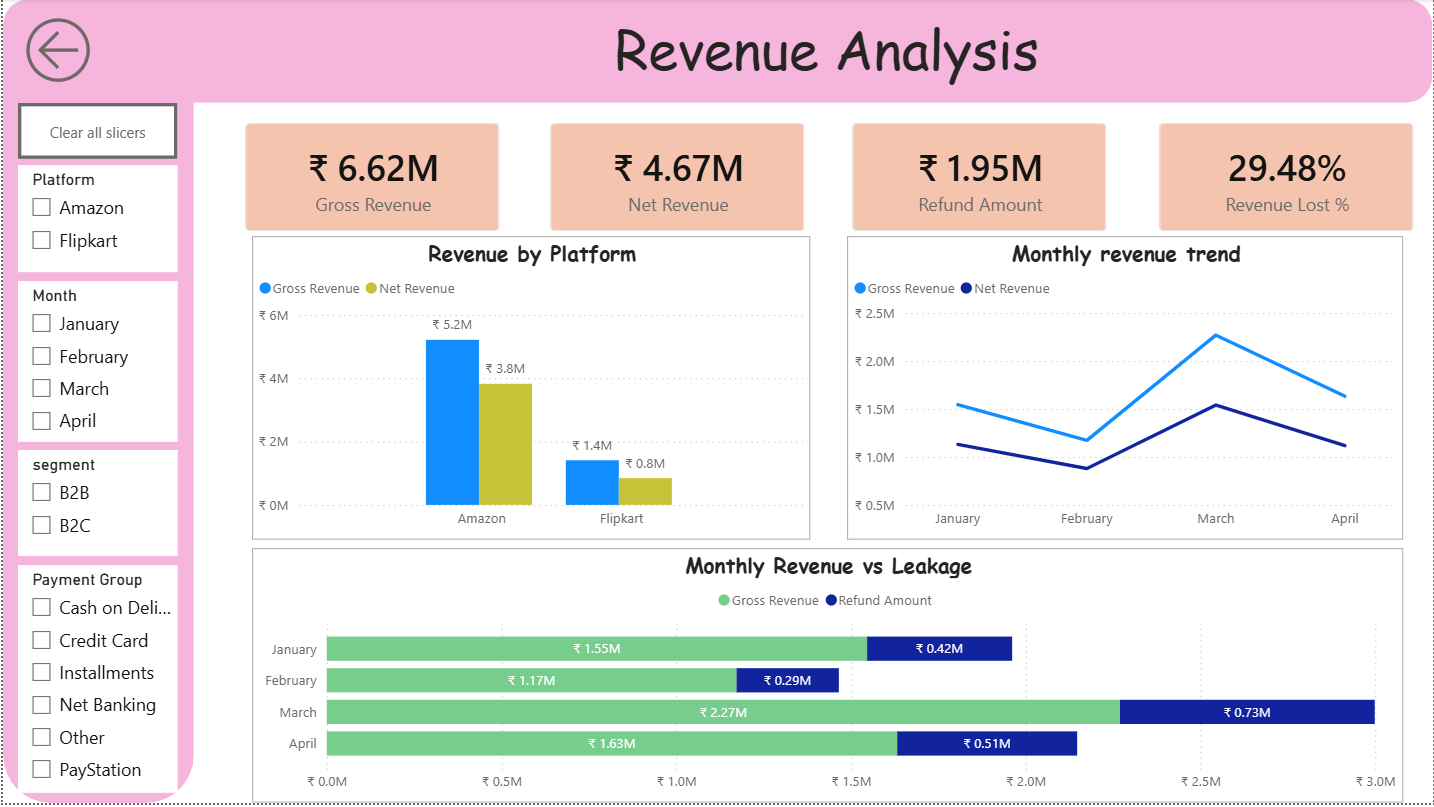

What the dashboard file says about the page in this screenshot:
{"tool":"powerbi","page":{"name":"Revenue Analysis","canvas":[1280,720],"ordinal":1},"visuals":[{"type":"cardVisual","fields":{"Data":["unified_sales.Gross Revenue"]},"box":[200,94,262,131],"z":0},{"type":"cardVisual","fields":{"Data":["unified_sales.Net Revenue"]},"box":[473,94,262,131],"z":1000},{"type":"cardVisual","fields":{"Data":["unified_sales.Revenue Lost %"]},"box":[1018,94,262,131],"z":2000},{"type":"cardVisual","fields":{"Data":["unified_sales.Refund Amount"]},"box":[743,94,262,131],"z":3000},{"type":"shape","box":[0,0,170.9,720],"z":4000},{"type":"shape","box":[0,0,1280,93],"z":5000},{"type":"slicer","fields":{"Values":["unified_sales.platform"]},"box":[13.6,149.1,142.7,96.4],"z":6000},{"type":"slicer","fields":{"Values":["unified_sales.month"]},"box":[13.6,252.7,142.7,143.6],"z":7000},{"type":"actionButton","box":[13.6,92.7,142.7,50],"z":8000},{"type":"textbox","box":[542.7,5.5,646.4,80.9],"z":9000},{"type":"clusteredColumnChart","title":"Revenue by Platform","fields":{"Y":["unified_sales.Gross Revenue","unified_sales.Net Revenue"],"Category":["unified_sales.platform"]},"box":[222.7,211.8,500,271.8],"z":10000},{"type":"slicer","fields":{"Values":["unified_sales.segment"]},"box":[13.6,403.6,142.7,95.5],"z":11000},{"type":"lineChart","title":"Monthly revenue trend","fields":{"Y":["unified_sales.Gross Revenue","unified_sales.Net Revenue"],"Category":["unified_sales.Month"]},"box":[755.5,211.8,498.2,271.8],"z":12000},{"type":"actionButton","box":[13.6,10,130.9,71.8],"z":13000},{"type":"slicer","fields":{"Values":["unified_sales.Payment Group"]},"box":[13.6,507.3,142.7,203.6],"z":14000},{"type":"barChart","title":"Monthly Revenue vs Leakage","fields":{"Category":["unified_sales.Month"],"Y":["unified_sales.Gross Revenue","unified_sales.Refund Amount"]},"box":[222.7,491.8,1030.9,228.2],"z":15000}]}

Visuals, with their boxes in screenshot pixels (x1, y1, x2, y2), scaled from the page's 1280x720 canvas onto the 1434x807 screenshot:
cardVisual - unified_sales.Gross Revenue: (x1=224, y1=105, x2=518, y2=252)
cardVisual - unified_sales.Net Revenue: (x1=530, y1=105, x2=823, y2=252)
cardVisual - unified_sales.Revenue Lost %: (x1=1140, y1=105, x2=1433, y2=252)
cardVisual - unified_sales.Refund Amount: (x1=832, y1=105, x2=1126, y2=252)
shape: (x1=0, y1=0, x2=191, y2=806)
shape: (x1=0, y1=0, x2=1433, y2=104)
slicer - unified_sales.platform: (x1=15, y1=167, x2=175, y2=275)
slicer - unified_sales.month: (x1=15, y1=283, x2=175, y2=444)
actionButton: (x1=15, y1=104, x2=175, y2=160)
textbox: (x1=608, y1=6, x2=1332, y2=97)
"Revenue by Platform" clusteredColumnChart: (x1=249, y1=237, x2=810, y2=542)
slicer - unified_sales.segment: (x1=15, y1=452, x2=175, y2=559)
"Monthly revenue trend" lineChart: (x1=846, y1=237, x2=1405, y2=542)
actionButton: (x1=15, y1=11, x2=162, y2=92)
slicer - unified_sales.Payment Group: (x1=15, y1=569, x2=175, y2=797)
"Monthly Revenue vs Leakage" barChart: (x1=249, y1=551, x2=1404, y2=806)
